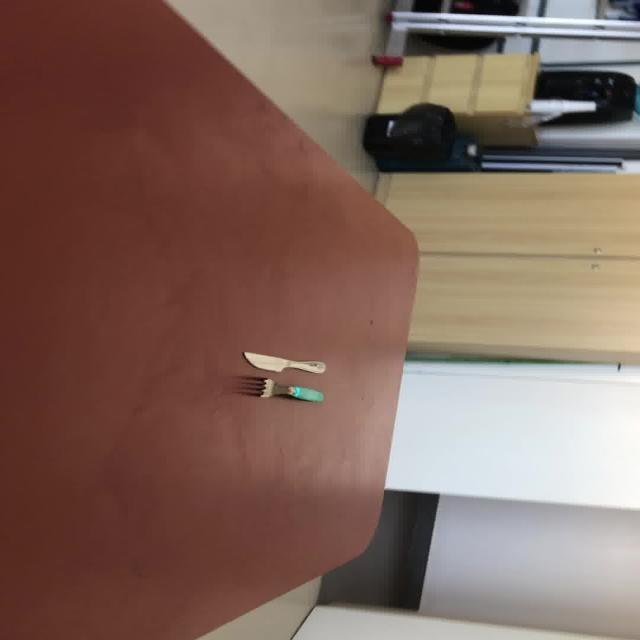fork: (235, 375, 324, 402), (241, 351, 326, 374)
knife fork: (241, 350, 326, 374)
